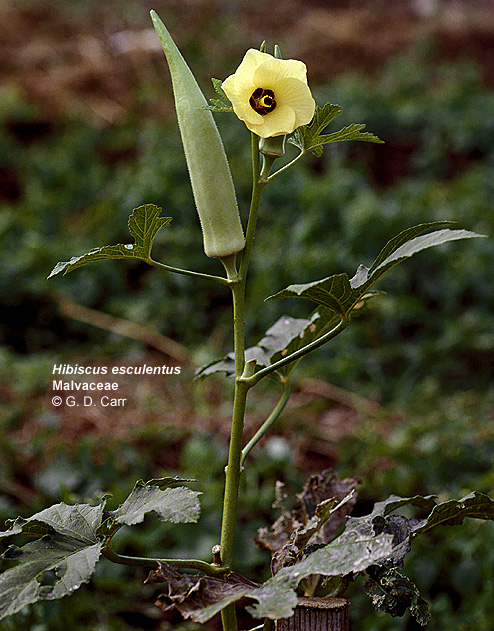okra: (143, 6, 247, 258)
